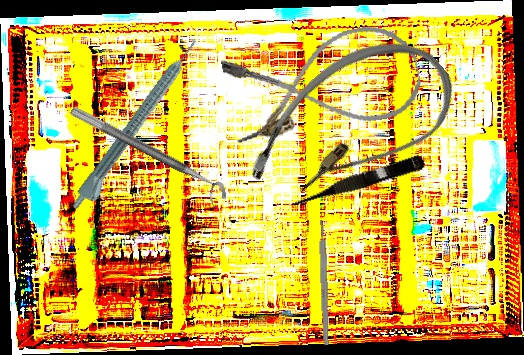Cannula: (230, 10, 472, 241), (219, 18, 427, 148)
Fixation Ring: (62, 104, 232, 212)
Handpiece: (68, 36, 209, 217)
Micro Scissor: (283, 151, 427, 213)
Scalpel Handle: (318, 219, 330, 346)
